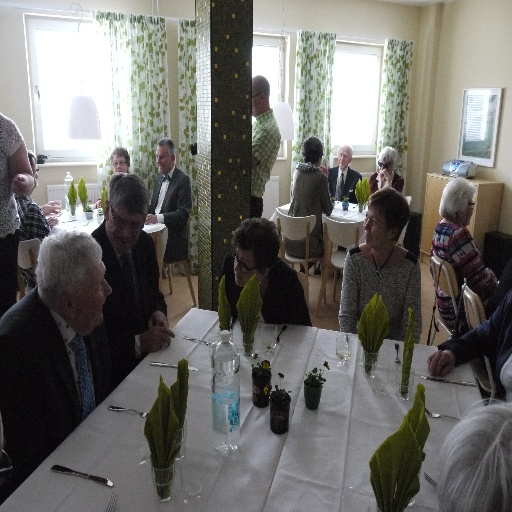hand: (137, 324, 178, 352), (427, 349, 455, 377), (8, 174, 27, 200), (146, 310, 167, 329), (43, 199, 59, 214), (377, 168, 391, 181), (144, 213, 157, 226), (319, 160, 329, 176), (46, 216, 59, 228), (92, 199, 104, 208)
